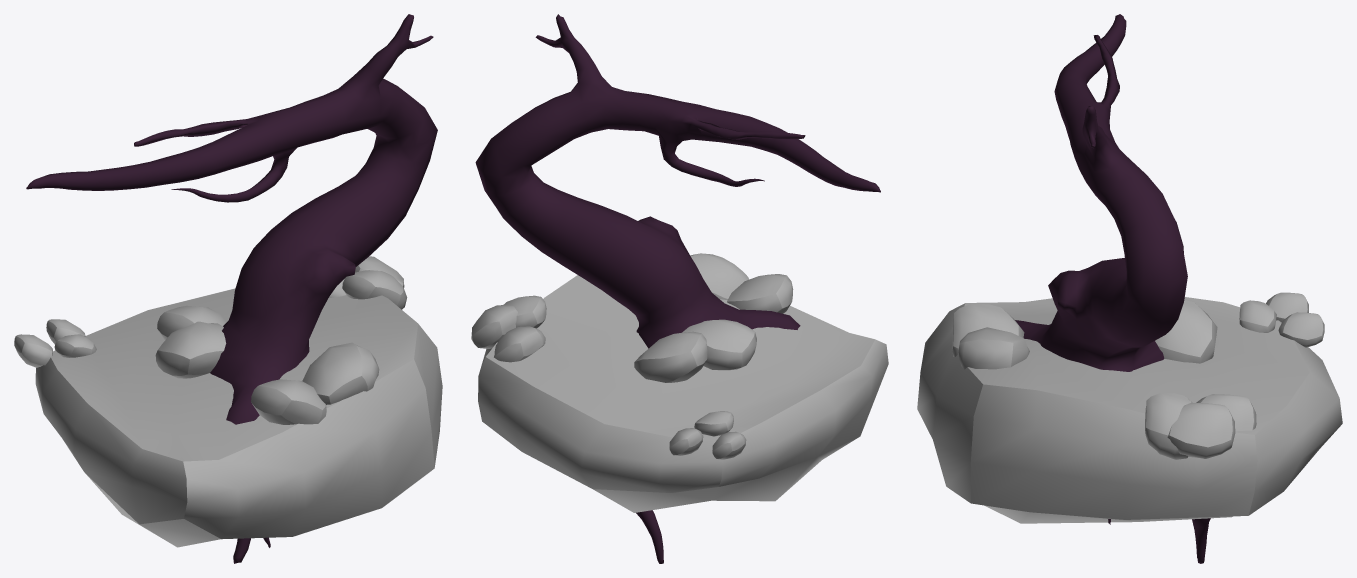
The model's file is uvs.fbx.
The picture shows the model from 3 angles, left to right: view 1: azimuth 30°, elevation 25°; view 2: azimuth 150°, elevation 25°; view 3: azimuth 270°, elevation 25°; orthographic projection. The views are drawn at different scales.
Parts seen in each view (by area): view 1: pCube1, pCylinder1, pCube5, pCube2, pCube4, pCube6, pCube3, pCube11, pCube9, pCube10; view 2: pCube1, pCylinder1, pCube3, pCube2, pCube4, pCube5, pCube7, pCube8, pCube6, pCube9, pCube10, pCube11; view 3: pCube1, pCylinder1, pCube7, pCube3, pCube5, pCube6, pCube4, pCube10, pCube8, pCube9, pCube11.
Part boxes in pixels (x1,y1,x2,y2): pCube1: (35, 288, 442, 547); pCylinder1: (26, 14, 437, 563); pCube5: (302, 342, 379, 404); pCube2: (155, 321, 226, 378); pCube4: (251, 379, 326, 424); pCube6: (342, 270, 407, 309); pCube3: (157, 305, 226, 340); pCube11: (14, 334, 52, 367); pCube9: (54, 334, 96, 357); pCube10: (46, 319, 85, 344); pCube1: (478, 275, 888, 512); pCylinder1: (475, 14, 880, 563); pCube3: (634, 331, 707, 382); pCube2: (682, 319, 756, 370); pCube4: (727, 274, 793, 313); pCube5: (690, 253, 749, 299); pCube7: (471, 305, 517, 348); pCube8: (494, 326, 545, 362); pCube6: (503, 295, 546, 328); pCube9: (694, 411, 733, 436); pCube10: (669, 428, 703, 455); pCube11: (712, 431, 746, 459); pCube1: (917, 297, 1342, 523); pCylinder1: (1015, 14, 1210, 563); pCube7: (1167, 402, 1235, 458); pCube3: (1155, 300, 1217, 363); pCube5: (958, 327, 1029, 369); pCube6: (1145, 393, 1192, 459); pCube4: (952, 303, 1024, 356); pCube10: (1278, 312, 1324, 347); pCube8: (1196, 394, 1256, 431); pCube9: (1239, 300, 1276, 332); pCube11: (1266, 292, 1308, 322).
Size of the model in its own units: 41 by 48.73 by 34.74.
